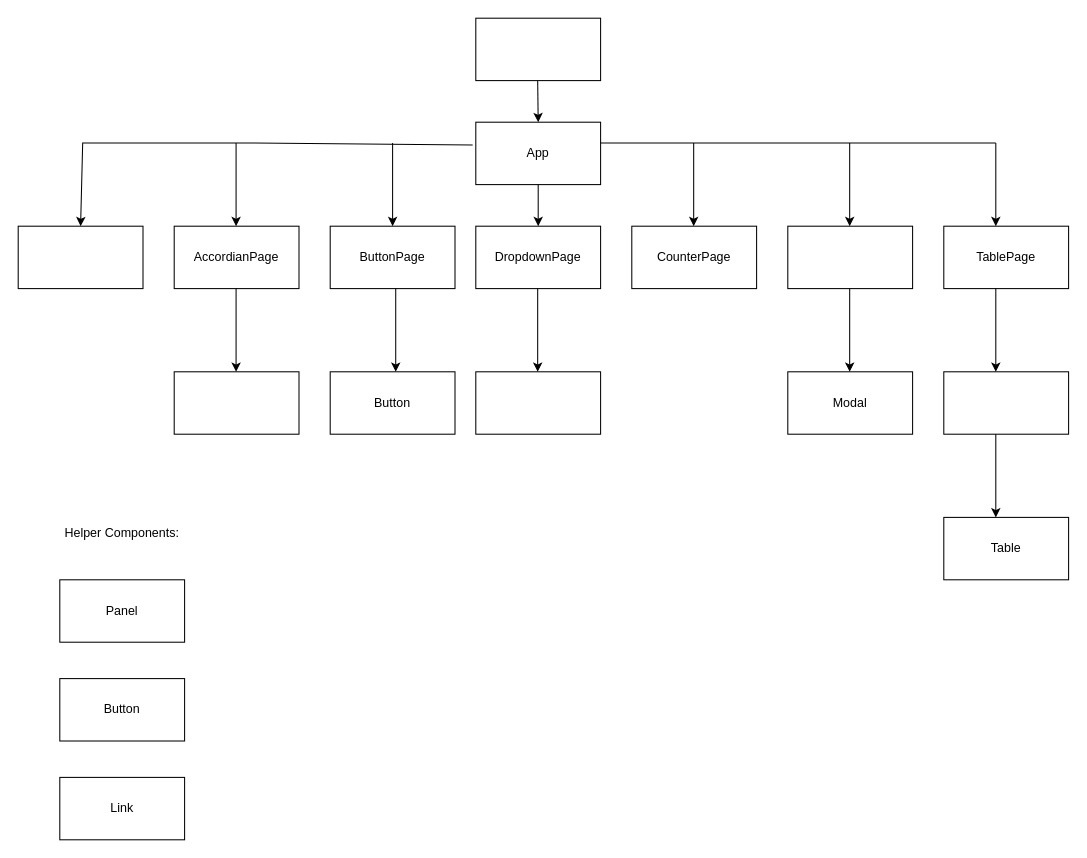
The diagram is 1087 pixels wide and 858 high, and some of its shapes have lost their labels. Here are the shapes that lost their labels. From the top down, the centre of each, then its label:
At point (538, 49): "Context Provider".
At point (80, 257): "Sidebar".
At point (850, 257): "ModalPage".
At point (236, 402): "Accordian".
At point (538, 402): "Dropdown".
At point (1006, 402): "SortableTable".
